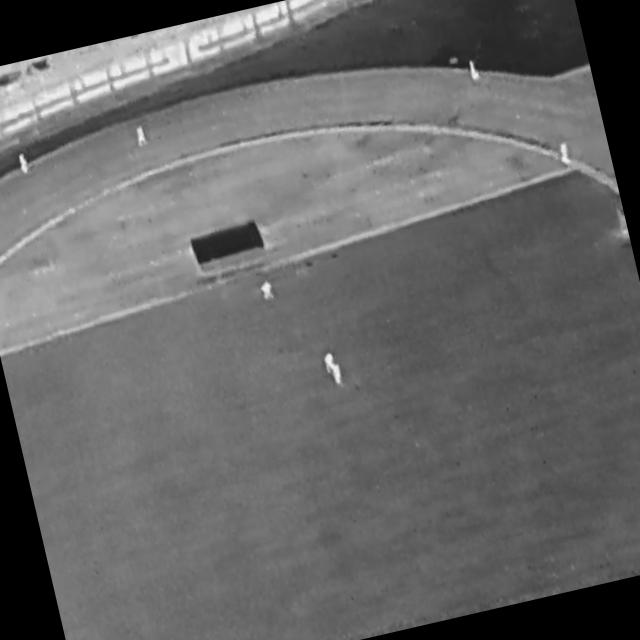person: (558, 141, 573, 167), (134, 125, 150, 149), (18, 152, 31, 176), (261, 280, 275, 302), (332, 363, 345, 385), (324, 352, 337, 374), (469, 60, 481, 81)
